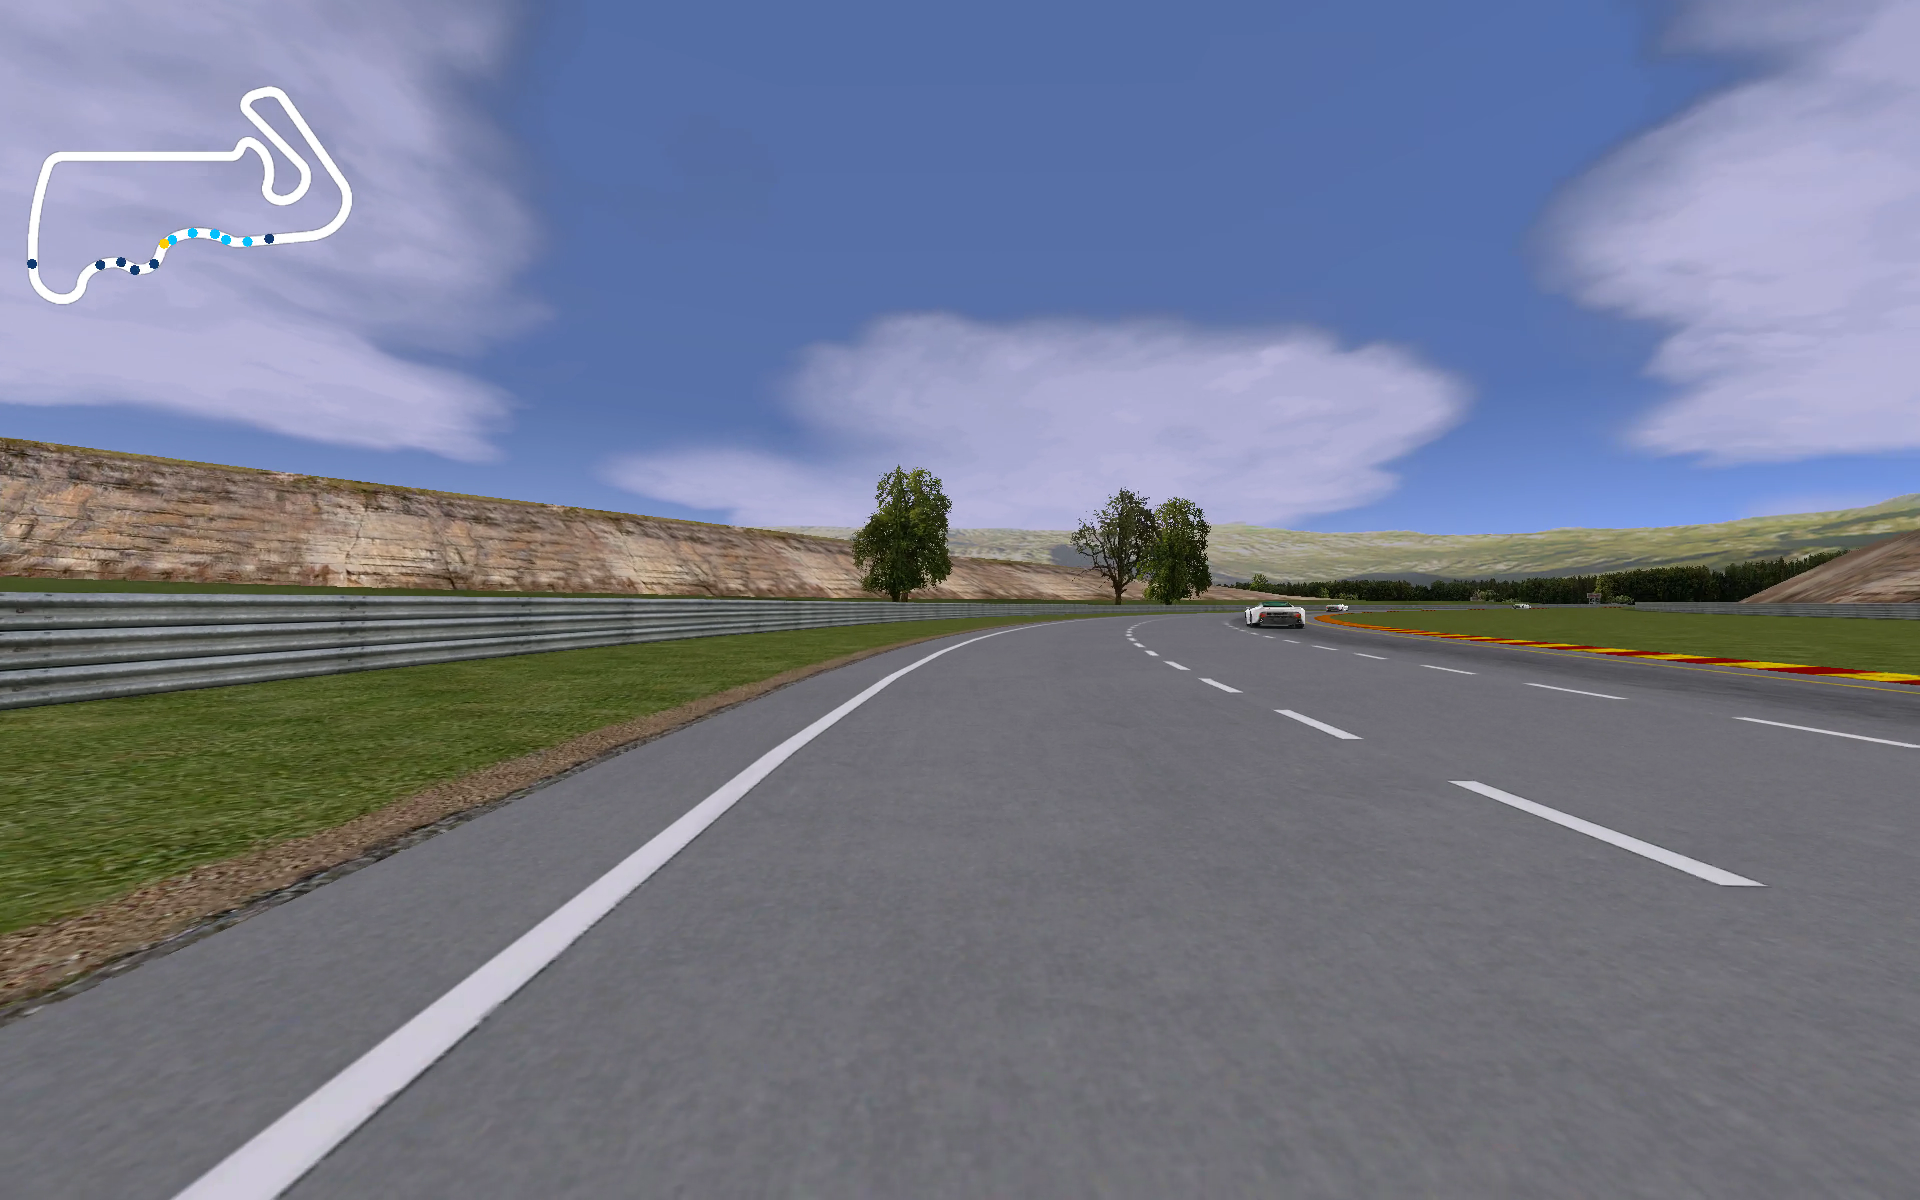car: (1244, 597, 1310, 632)
